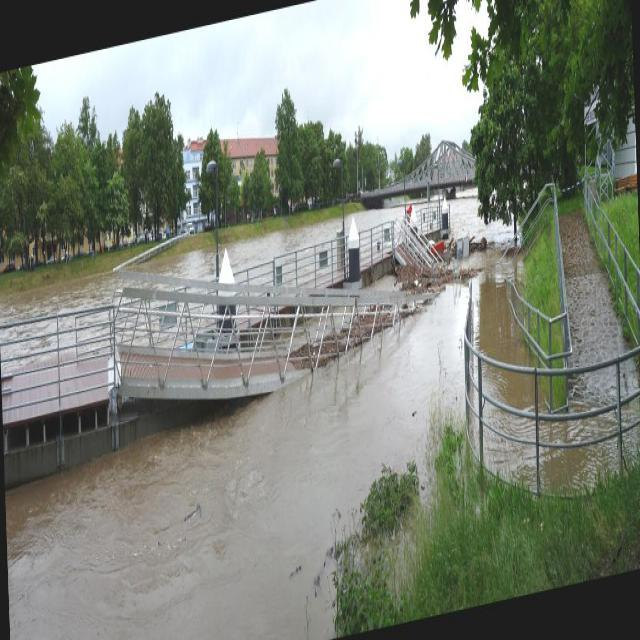flood: (3, 304, 486, 639)
